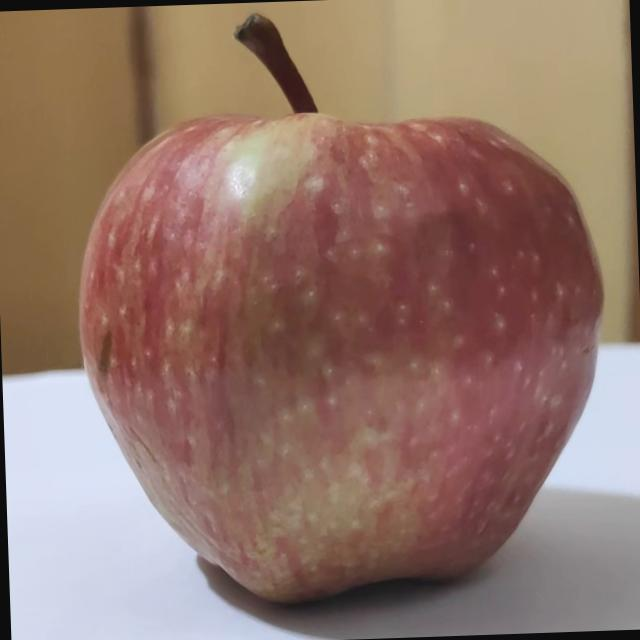apple: (20, 0, 628, 638)
